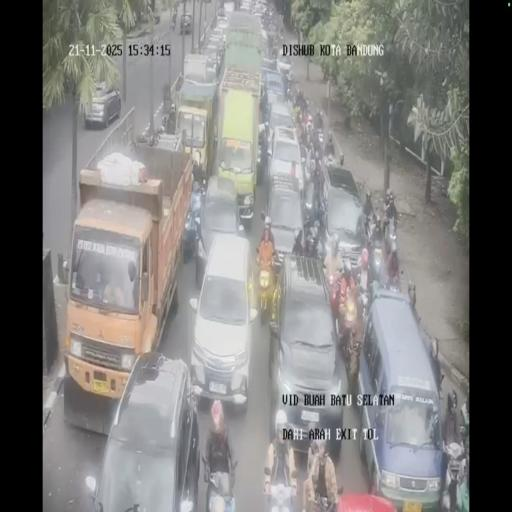3: (174, 61, 218, 179)
car: (355, 290, 443, 504), (88, 352, 198, 508), (268, 255, 344, 451), (195, 173, 245, 285), (321, 166, 369, 273), (263, 176, 305, 270), (82, 82, 121, 128), (265, 100, 297, 156), (204, 30, 226, 73), (276, 55, 292, 82), (214, 15, 230, 38), (261, 54, 276, 77), (251, 0, 266, 18), (180, 13, 192, 34), (222, 0, 235, 16), (152, 4, 160, 24), (240, 0, 252, 13)
truck: (202, 450, 238, 510), (368, 228, 388, 288), (265, 478, 297, 512), (325, 270, 345, 320), (304, 218, 324, 259), (336, 320, 354, 365), (384, 217, 398, 259), (387, 263, 401, 295), (326, 149, 336, 167), (171, 8, 177, 30), (271, 43, 278, 59)
